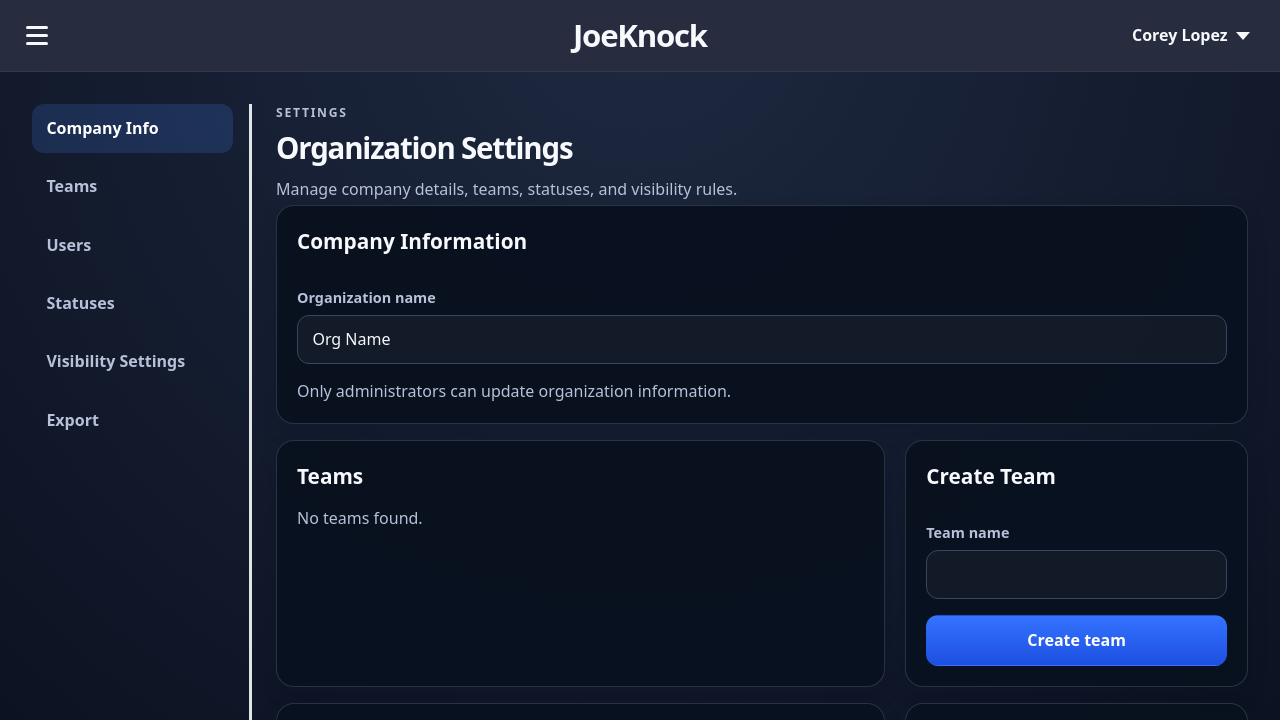
Test: settings page › allows manager to create a team
Expected: the heading "Organization Settings" is shown, [276,128,572,168]
Type "North Knoxville" into the field labelled "Team name" at (1077, 574), box [926,550,1227,599]
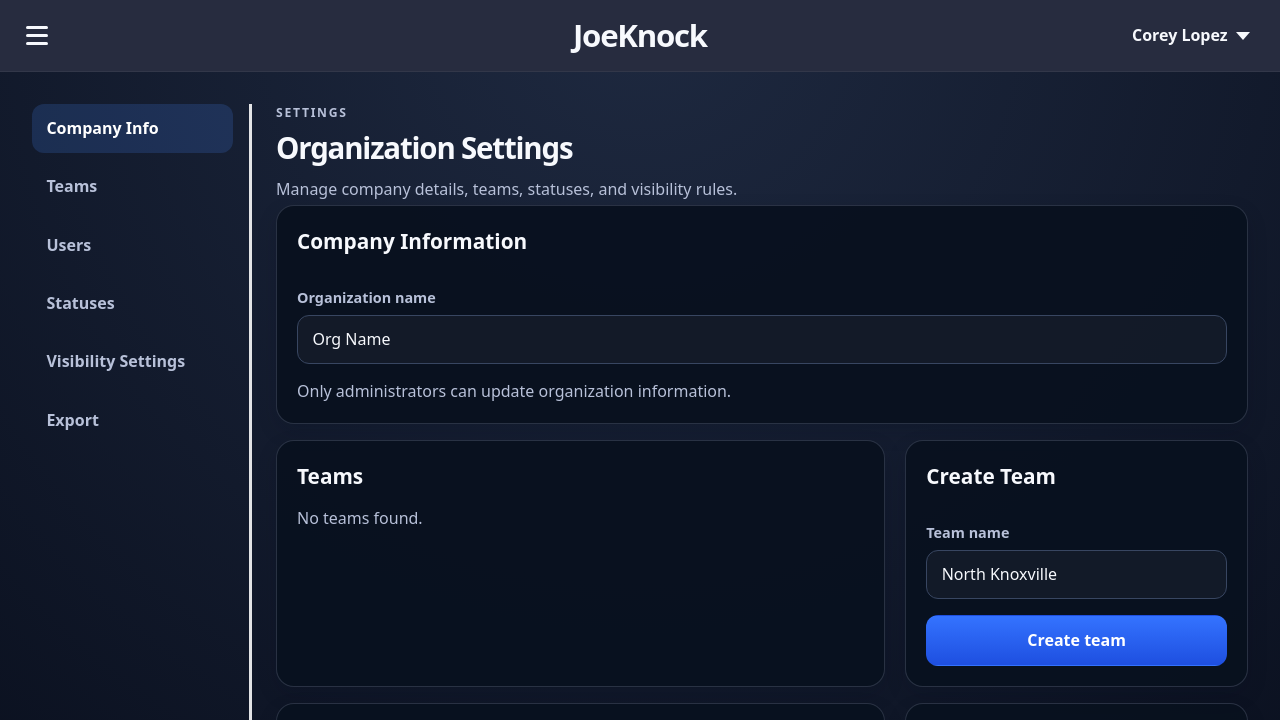
Click the button "Create team" at (1077, 640), box [926,615,1227,666]
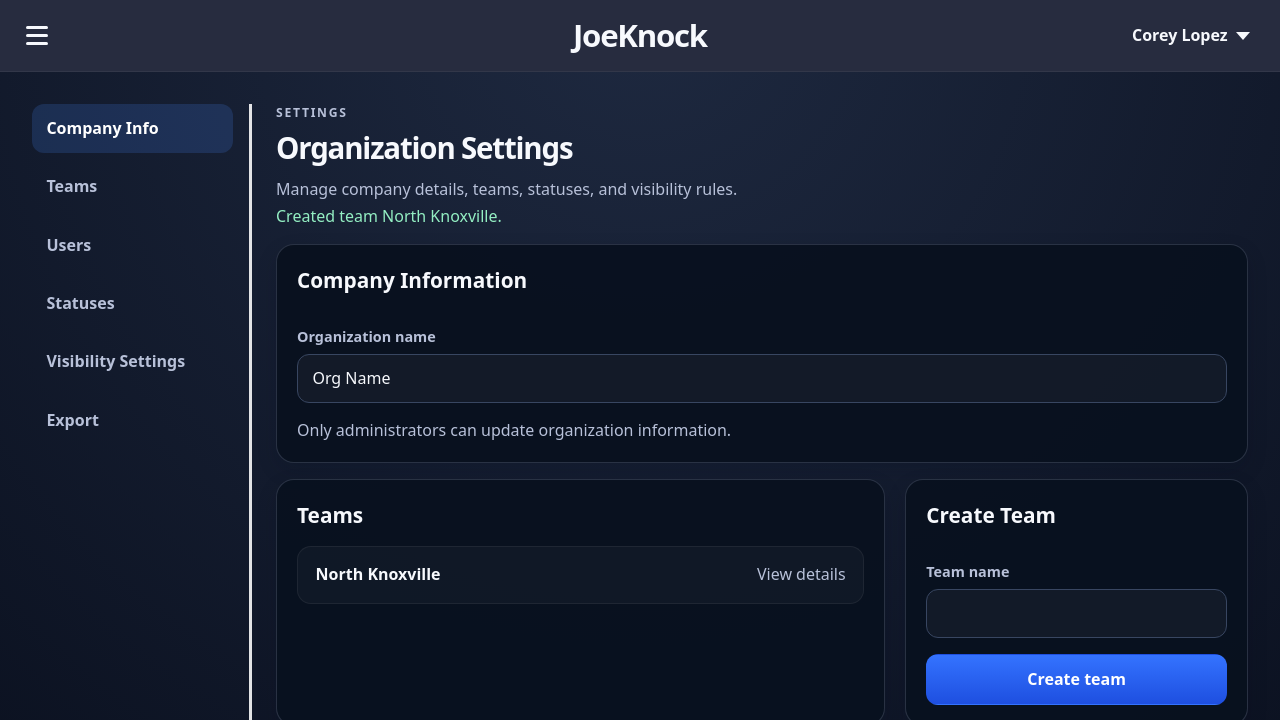
Expected: the message reads "Created team North Knoxville.", [276,205,502,227]
Expected: the text "North Knoxville" is shown, [316,563,441,587]
